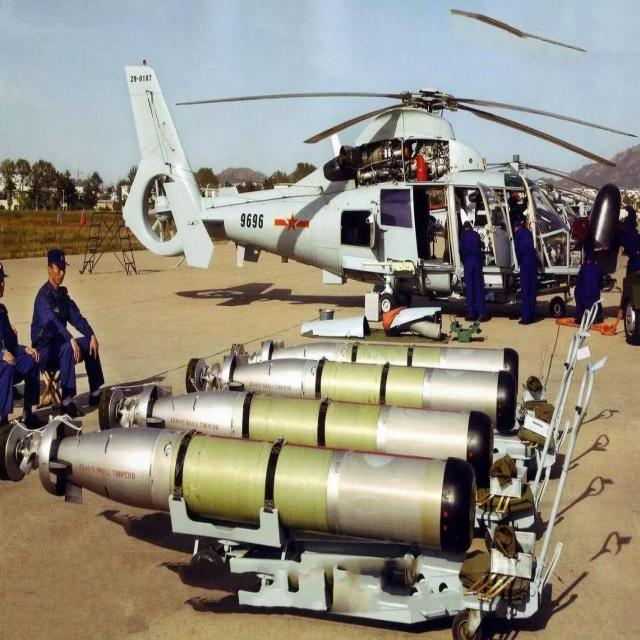MIL_HELO: (119, 53, 633, 332)
